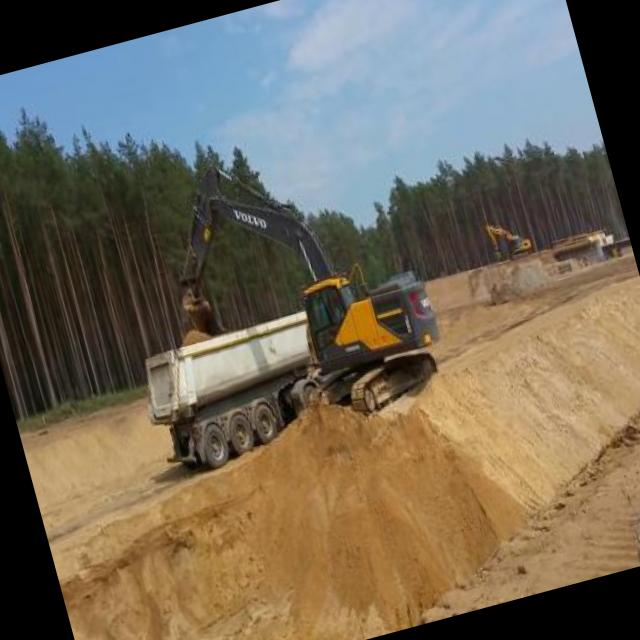Dump Truck: (122, 294, 337, 481)
Excavator: (139, 114, 455, 453), (479, 208, 536, 266)
